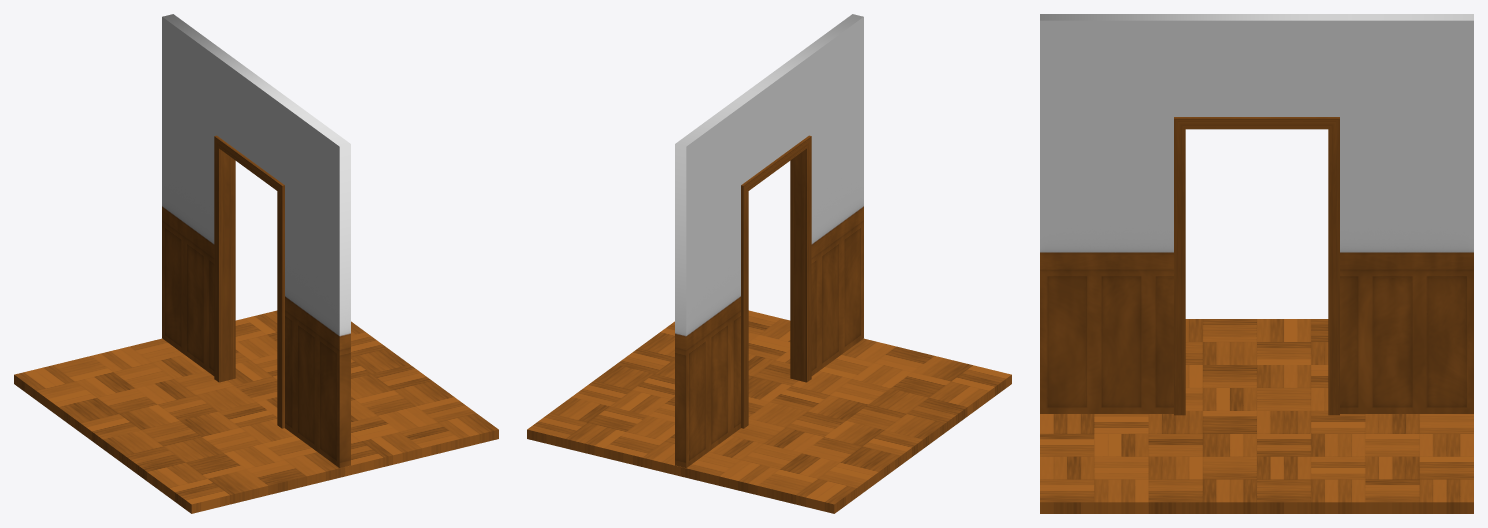
File: doorway.glb
3 views of the same model, side by side, from view 1: azimuth 30°, elevation 25°; view 2: azimuth 150°, elevation 25°; view 3: azimuth 270°, elevation 25° (orthographic). The views are drawn at different scales.
Visible parts, largest first — view 1: floor; view 2: floor; view 3: floor.
Part boxes in pixels (x1,y1,x2,y2): floor: (14,14,498,513); floor: (527,14,1011,513); floor: (1040,14,1473,513).
Size of the model in its own units: 2 by 2.06 by 2.
2 materials, 2 textured.
